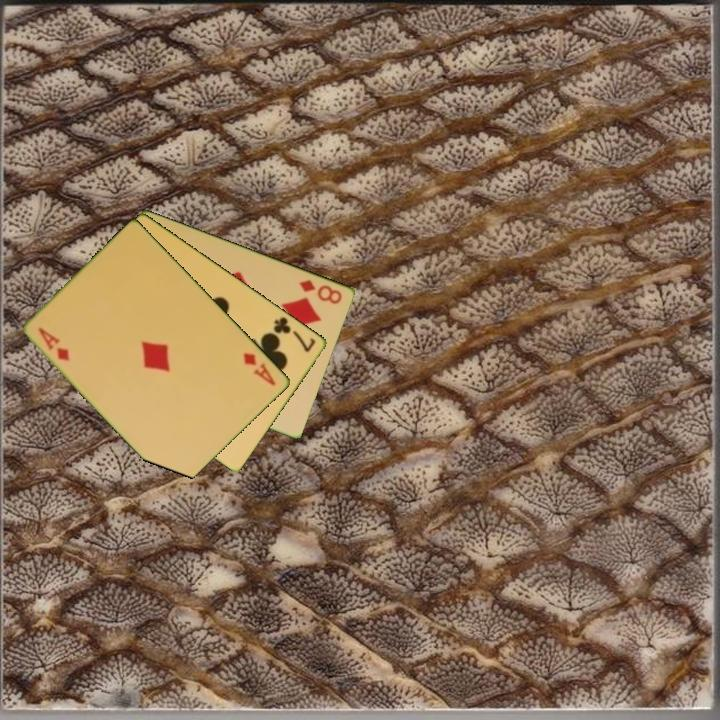7c: (270, 313, 319, 355)
8d: (296, 276, 345, 307)
Ad: (240, 349, 279, 389), (35, 323, 73, 364)
